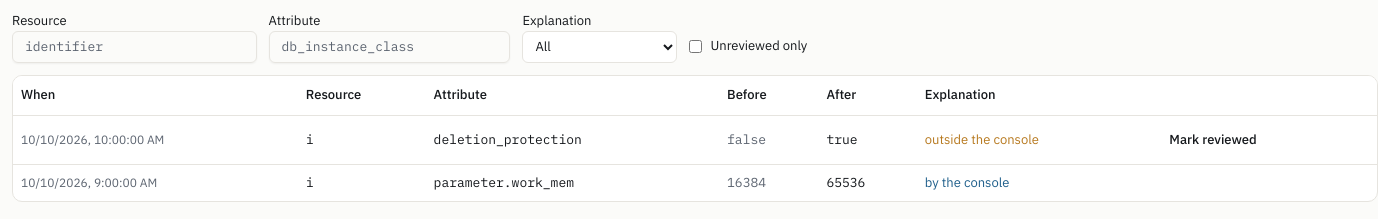
Test: ChangesView › shows no cap notice and says plainly that nothing matches when the answer is complete
The width and height of the screenshot is (1378, 219).
Expected: the text "parameter.work_mem" is shown, top-left (426, 165), bottom-right (719, 201)
Type "no-such-attribute" into the field labelled "Attribute" at (390, 47), box top-left (269, 31), bottom-right (510, 63)
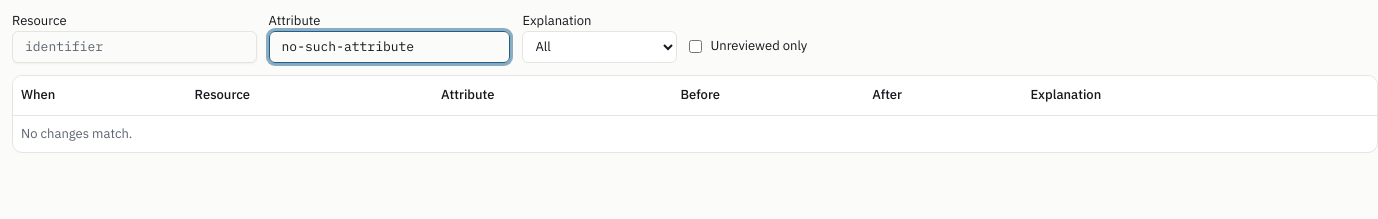
Result: the text "No changes match." is shown at top-left (13, 116), bottom-right (1377, 152)
